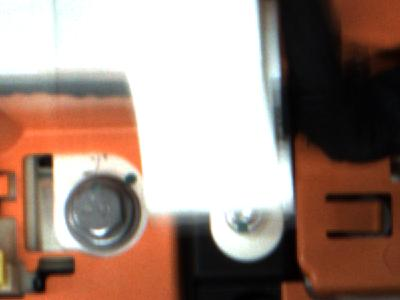nut_b: (62, 169, 139, 253)
